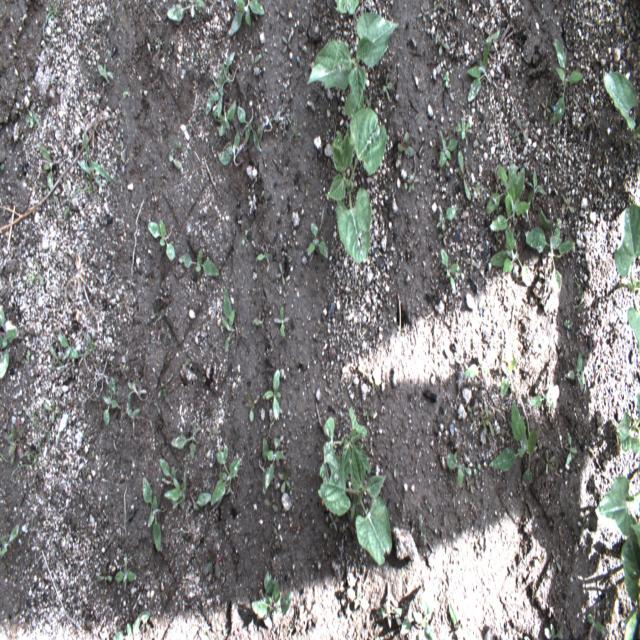crop: (317, 404, 393, 568), (328, 90, 387, 262), (309, 13, 397, 111), (596, 472, 640, 604), (612, 202, 640, 359), (602, 70, 640, 144), (617, 390, 640, 454), (335, 1, 360, 16), (626, 610, 638, 640)
weed: (484, 164, 547, 276), (524, 205, 576, 298), (490, 400, 538, 487), (550, 39, 584, 128), (466, 30, 498, 105), (252, 572, 292, 620), (81, 135, 112, 193), (214, 445, 243, 504), (9, 438, 44, 481), (0, 303, 19, 376), (160, 460, 187, 510), (399, 600, 433, 639), (229, 0, 265, 36), (178, 246, 220, 275), (221, 287, 240, 351), (144, 482, 160, 554), (262, 436, 284, 487), (152, 218, 176, 260), (448, 602, 475, 639), (66, 181, 92, 218), (463, 348, 493, 380), (238, 109, 262, 149), (115, 611, 149, 639), (446, 453, 474, 486), (210, 100, 236, 135), (169, 428, 195, 460), (262, 374, 280, 419), (566, 350, 584, 392), (217, 137, 240, 169), (166, 0, 206, 18), (346, 579, 369, 609), (499, 358, 517, 396), (217, 58, 229, 115), (0, 524, 20, 558), (102, 377, 116, 425), (8, 421, 26, 458), (460, 148, 472, 202), (442, 249, 459, 287), (438, 135, 458, 167), (306, 228, 328, 256), (40, 142, 54, 186), (533, 385, 560, 407), (274, 304, 290, 340), (126, 394, 142, 430), (382, 596, 402, 624), (114, 563, 136, 586), (480, 403, 494, 438), (565, 430, 578, 465), (57, 334, 78, 355), (437, 204, 457, 226), (42, 399, 60, 423), (573, 269, 583, 310), (586, 613, 604, 634), (47, 346, 64, 368), (26, 108, 41, 131), (542, 624, 564, 639), (397, 132, 410, 157), (516, 119, 529, 144), (245, 393, 255, 425), (455, 120, 471, 140), (96, 62, 110, 84), (192, 492, 211, 508), (96, 564, 111, 584), (437, 30, 449, 55), (282, 468, 294, 491), (264, 498, 282, 512), (544, 448, 554, 472), (167, 154, 182, 168), (562, 196, 574, 213), (403, 172, 413, 192), (543, 97, 553, 117), (30, 270, 42, 285), (256, 250, 270, 262), (363, 404, 374, 418), (509, 128, 518, 145), (551, 143, 561, 158), (381, 78, 393, 90), (444, 69, 451, 89), (160, 324, 170, 338), (46, 7, 56, 20), (252, 316, 264, 326), (154, 302, 161, 318), (26, 347, 32, 363), (241, 234, 248, 247), (466, 406, 476, 414), (565, 318, 570, 330), (292, 128, 296, 138)
